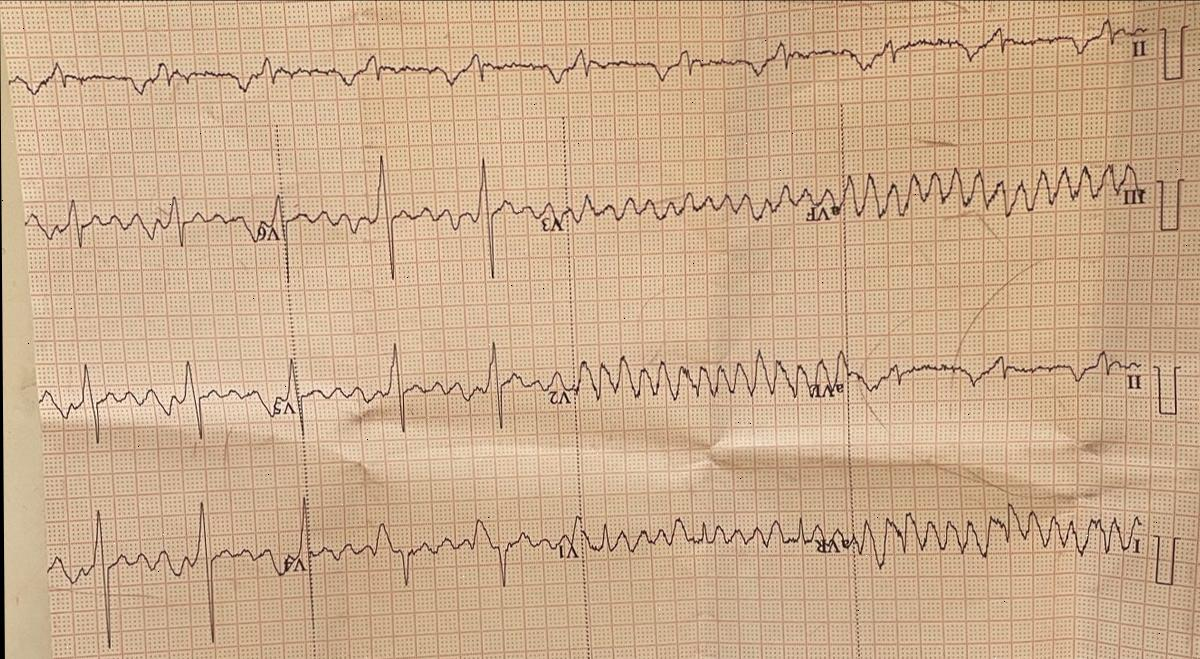Lead_I: (849, 494, 1152, 578)
Lead_II: (844, 336, 1147, 414)
Lead_III: (839, 154, 1150, 232)
Lead_II_ext: (4, 8, 1154, 97)
Lead_V1: (306, 484, 582, 602)
Lead_V2: (293, 328, 574, 445)
Lead_V3: (272, 139, 569, 293)
Lead_V4: (46, 480, 309, 658)
Lead_V5: (28, 338, 299, 454)
Lead_V6: (19, 175, 284, 282)
Lead_aVF: (564, 172, 846, 240)
Lead_aVL: (572, 344, 846, 417)
Lead_aVR: (578, 502, 852, 574)
